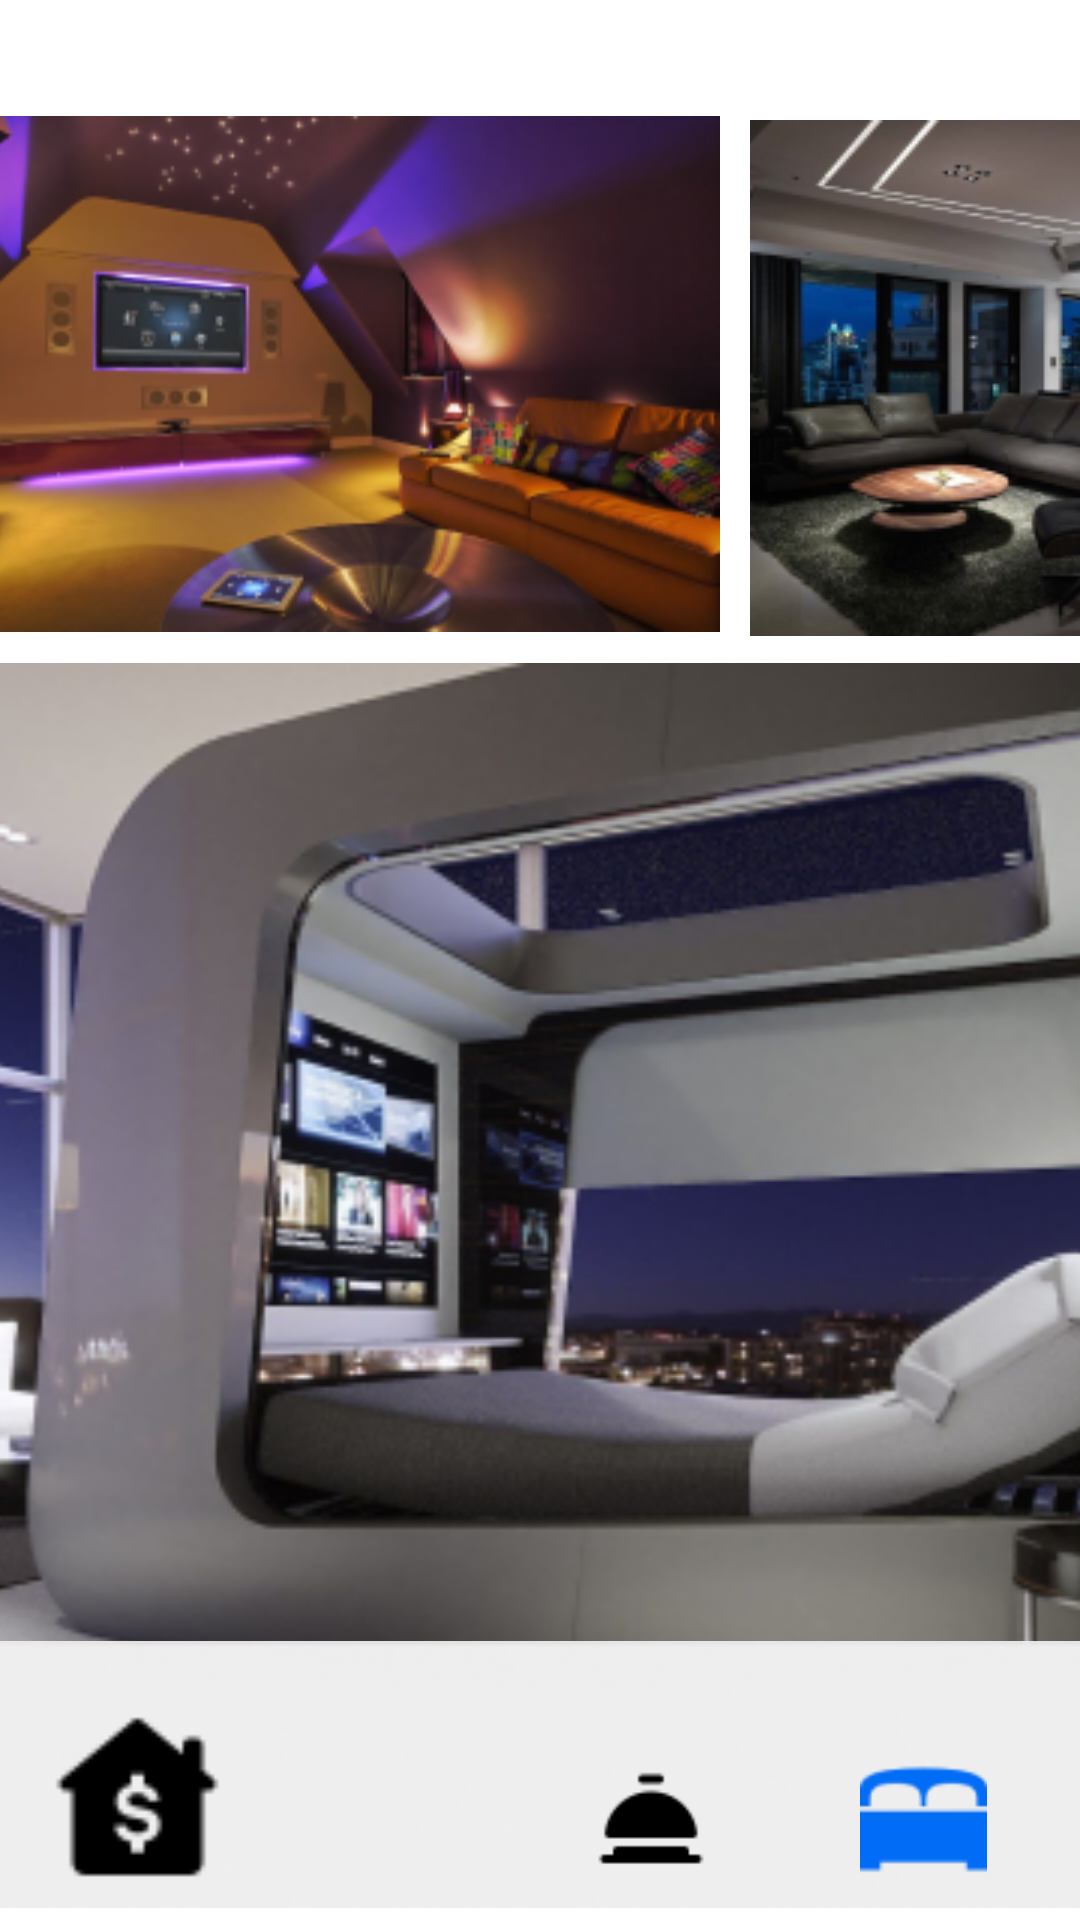

Screen size 1080 × 1920. Icon name, then its center in pixels as point (x, y):
bedlight: point (923, 1819)
rentnotlighted: point (137, 1797)
